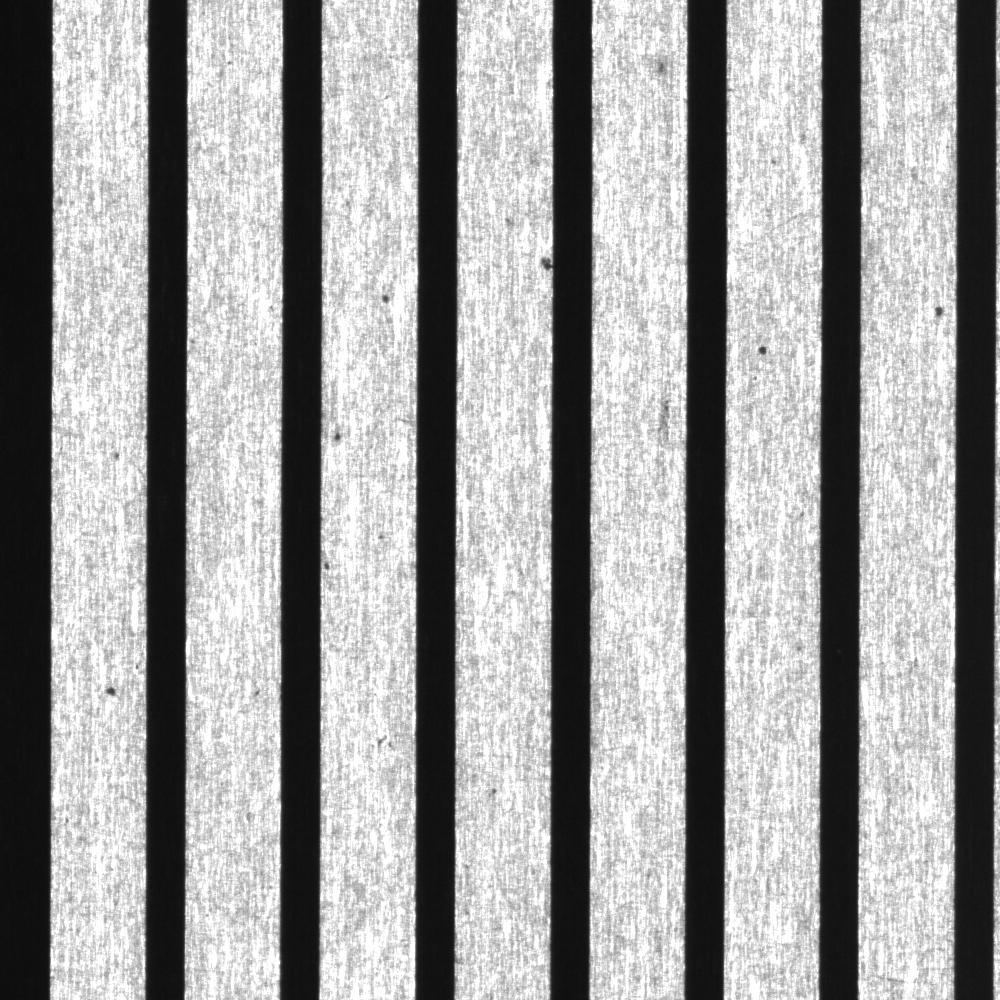Discolor: (645, 387, 682, 459)
Etching: (92, 669, 131, 706), (371, 721, 401, 769), (645, 55, 675, 85), (495, 203, 519, 235), (530, 249, 555, 279), (101, 439, 126, 468), (317, 552, 338, 581), (369, 524, 391, 550)
Pinhole: (922, 301, 952, 324), (370, 285, 398, 309), (328, 421, 350, 449), (751, 334, 773, 359), (485, 779, 505, 804)
